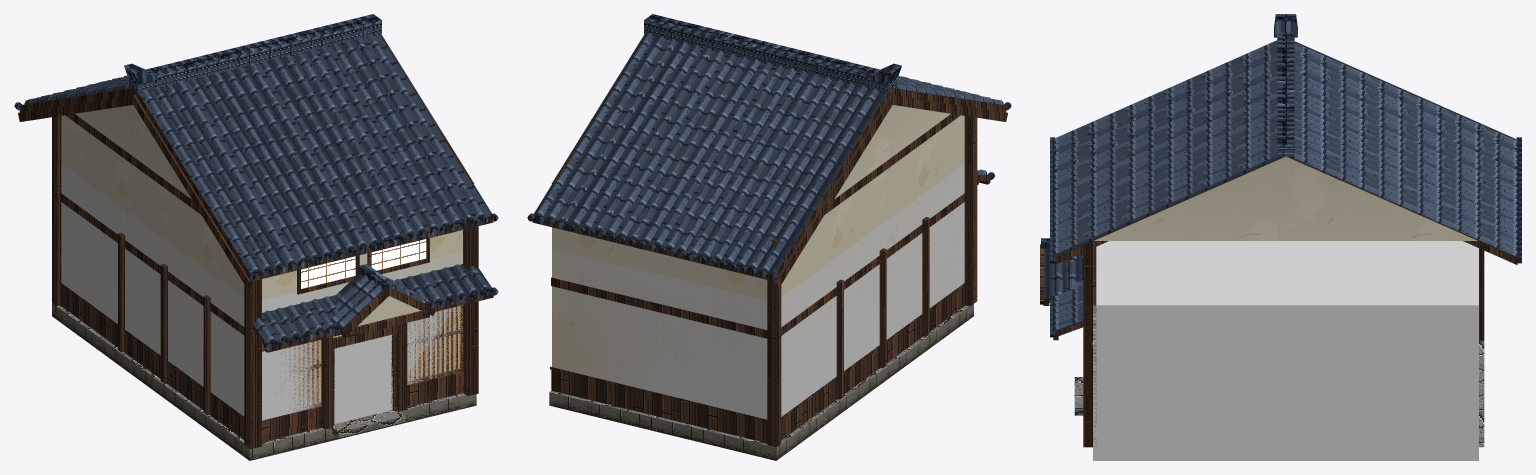
The model's file is JP_Row_House_A_L.glb.
The picture shows the model from 3 angles, left to right: view 1: azimuth 30°, elevation 25°; view 2: azimuth 150°, elevation 25°; view 3: azimuth 270°, elevation 25°; orthographic projection.
Parts seen in each view (by area): view 1: JP_Row_House_A_L, COL_JP_Row_House_A_L; view 2: JP_Row_House_A_L, COL_JP_Row_House_A_L; view 3: COL_JP_Row_House_A_L, JP_Row_House_A_L.
Boxes of the visible parts, bbox=[...] form: JP_Row_House_A_L: bbox=[14, 14, 498, 460]; COL_JP_Row_House_A_L: bbox=[61, 164, 462, 423]; JP_Row_House_A_L: bbox=[527, 14, 1011, 460]; COL_JP_Row_House_A_L: bbox=[552, 164, 964, 419]; COL_JP_Row_House_A_L: bbox=[1093, 241, 1478, 460]; JP_Row_House_A_L: bbox=[1040, 14, 1521, 447].
Size of the model in its own units: 6.8 by 8.36 by 11.23.
Materials: 12 (12 with a texture image).
